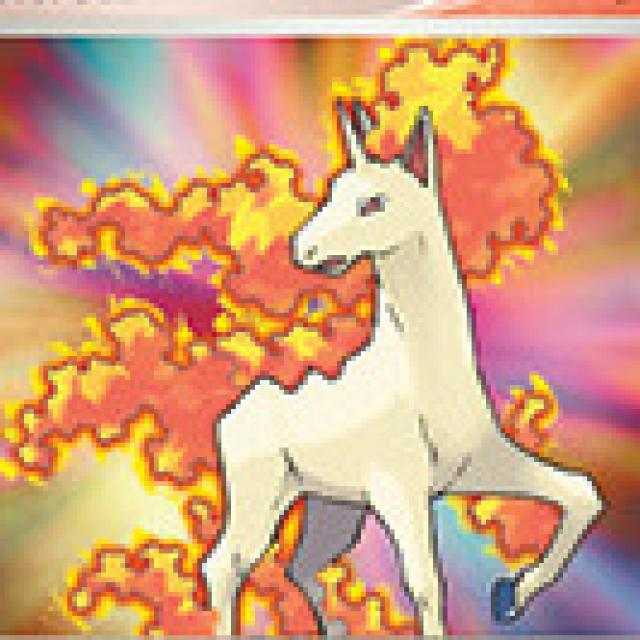Rapidash: (143, 47, 565, 611)
